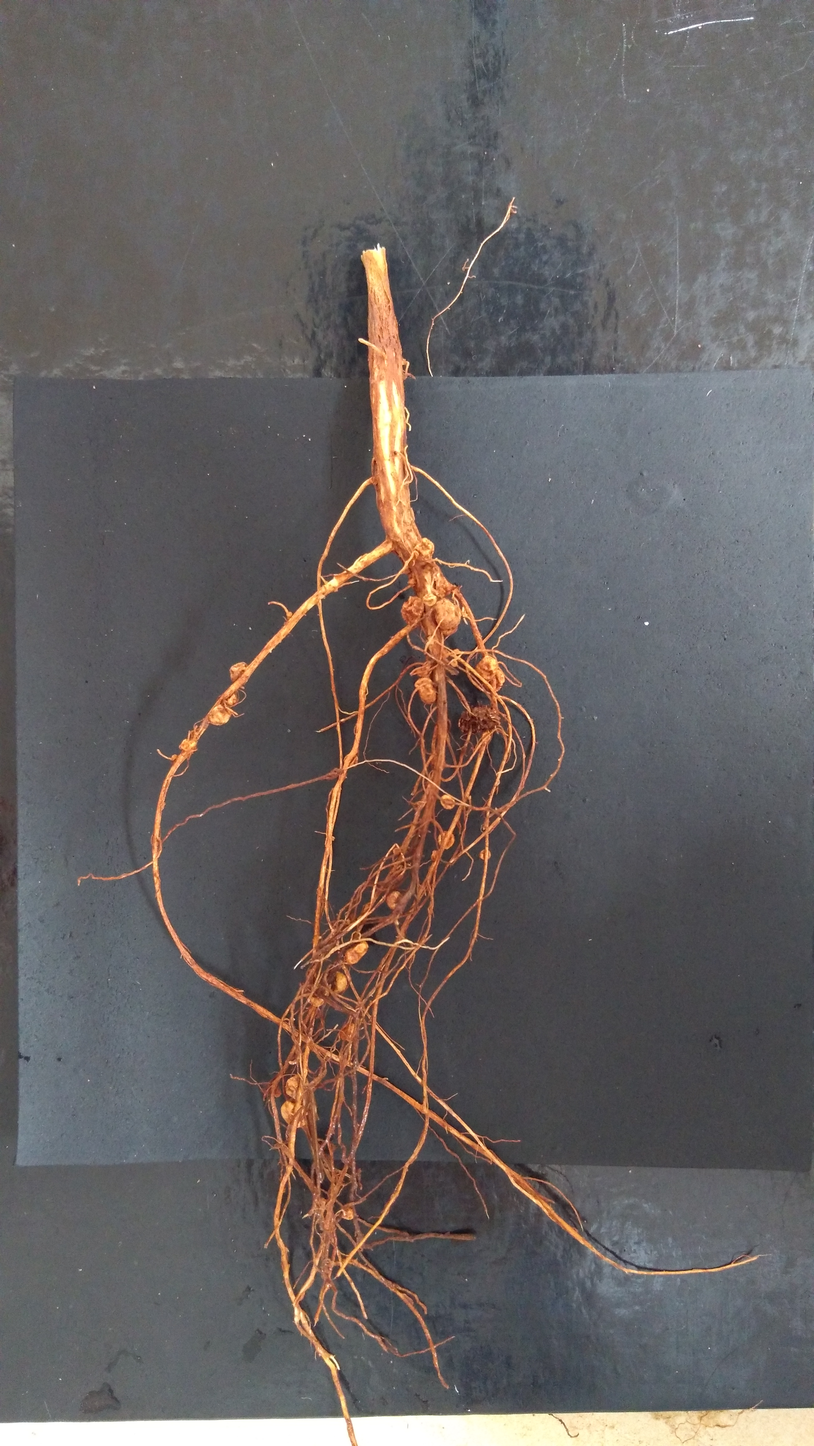nodule: (280, 1098, 317, 1128), (433, 598, 462, 636), (457, 705, 501, 730), (319, 969, 348, 995), (400, 596, 424, 625), (304, 983, 331, 1008), (285, 1075, 310, 1102), (343, 938, 368, 964), (414, 676, 437, 704), (474, 655, 498, 680), (412, 537, 435, 561), (207, 703, 232, 725), (483, 669, 505, 693), (230, 662, 249, 684), (434, 575, 451, 598), (340, 1021, 358, 1042), (385, 890, 402, 911), (438, 830, 454, 850), (218, 691, 237, 706), (416, 661, 432, 677), (440, 794, 456, 809), (342, 753, 358, 767), (179, 739, 197, 751), (340, 1206, 354, 1220), (422, 593, 437, 606), (271, 1085, 282, 1098), (479, 849, 491, 860), (316, 1196, 327, 1208), (407, 577, 417, 587), (392, 846, 403, 855), (431, 849, 439, 861), (449, 648, 459, 657), (450, 658, 458, 667), (171, 754, 177, 761), (286, 611, 292, 617), (330, 835, 335, 841)
